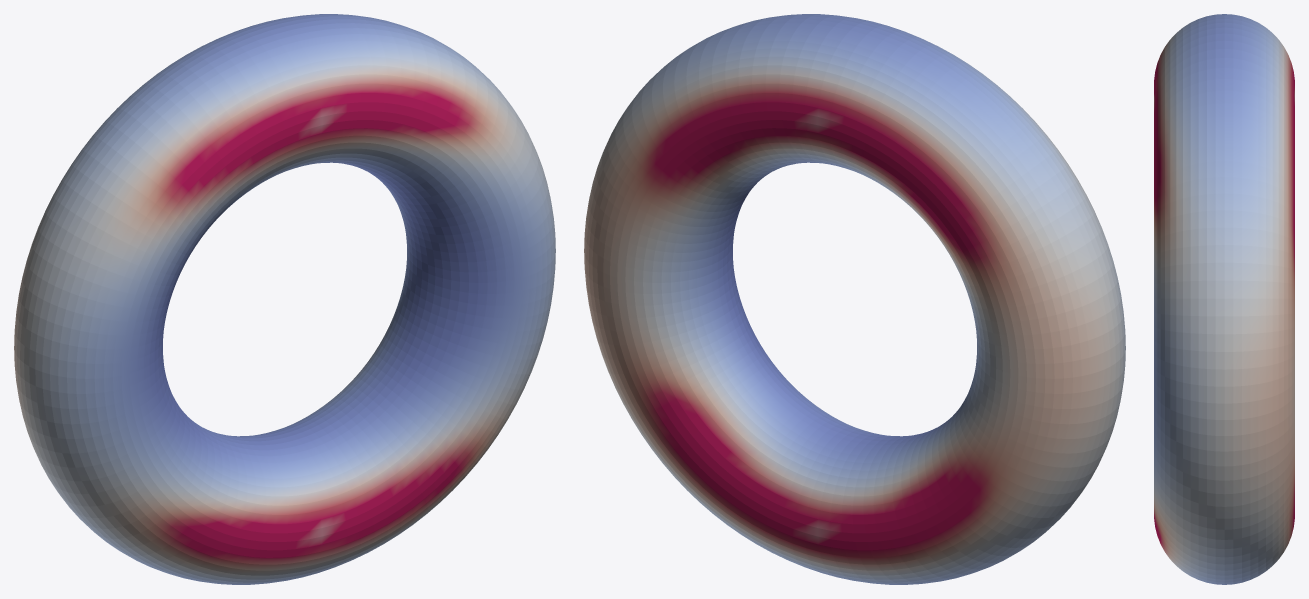
3 views of the same model, side by side, from view 1: azimuth 30°, elevation 25°; view 2: azimuth 150°, elevation 25°; view 3: azimuth 270°, elevation 25° (orthographic). The views are drawn at different scales.
Visible parts, largest first — view 1: world; view 2: world; view 3: world.
Boxes of the visible parts, x1,y1,x2,y2 form: world: (14, 14, 555, 584); world: (584, 14, 1125, 584); world: (1154, 14, 1294, 584).
Bounding box in the file's own units: 22.13 × 22.13 × 5.46.
